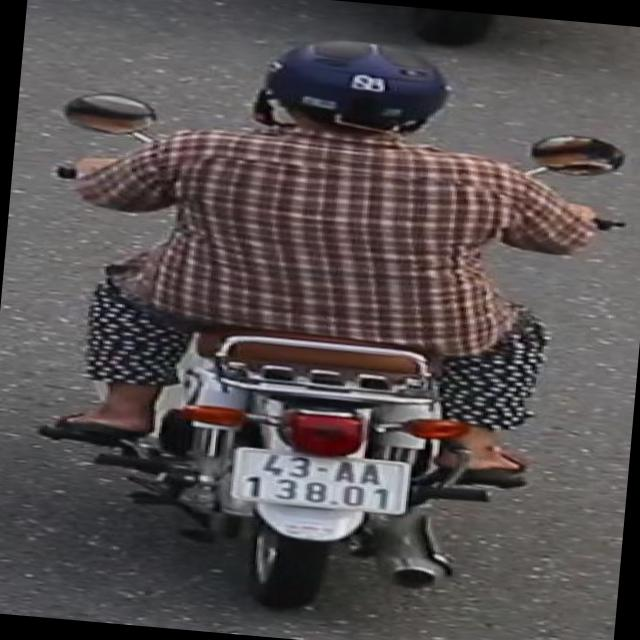LP: (234, 25, 463, 165), (225, 438, 423, 522)
